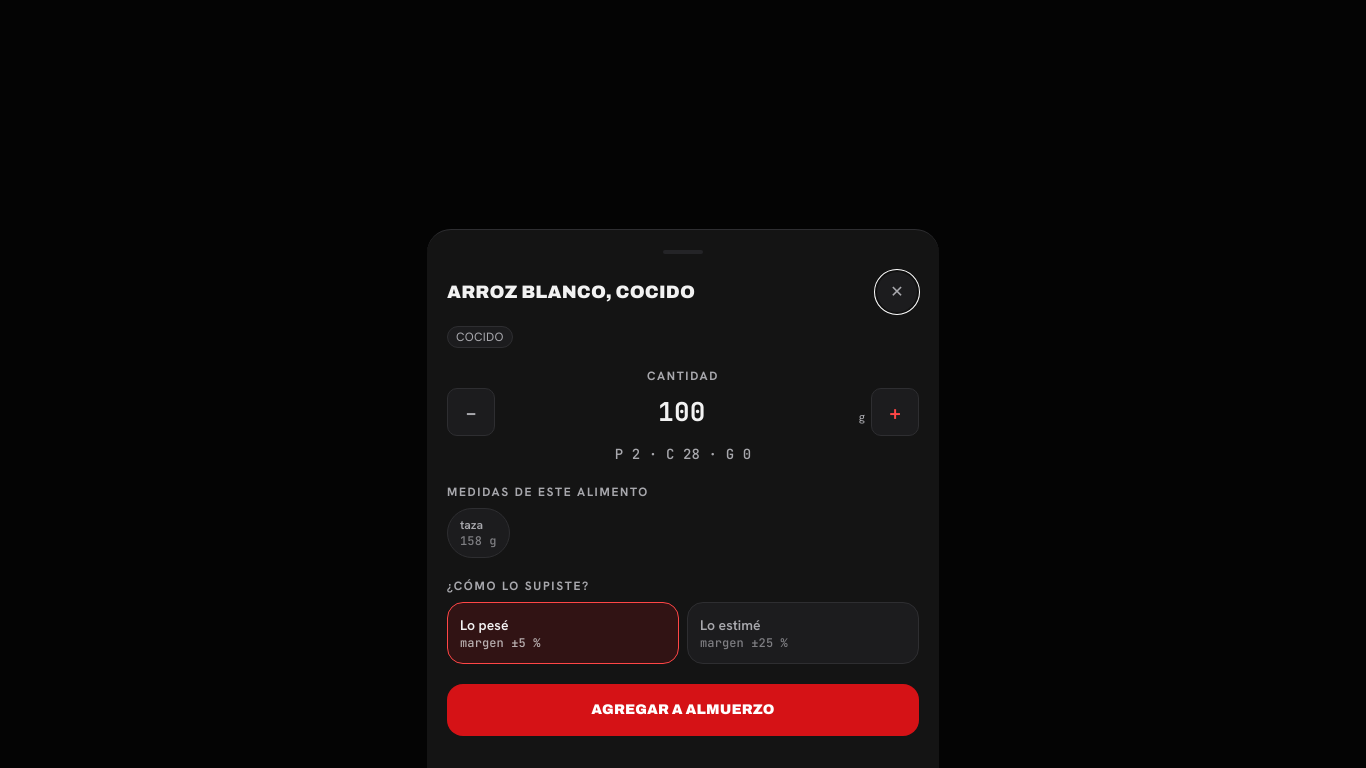
it: SheetCantidad › avisos de tope › con el contador apagado el aviso sigue saliendo, sin la cifra de kcal
Replace the text in the field named "Cantidad en g" with "2000" at (682, 412), box x1=501 y1=390 x2=863 y2=434
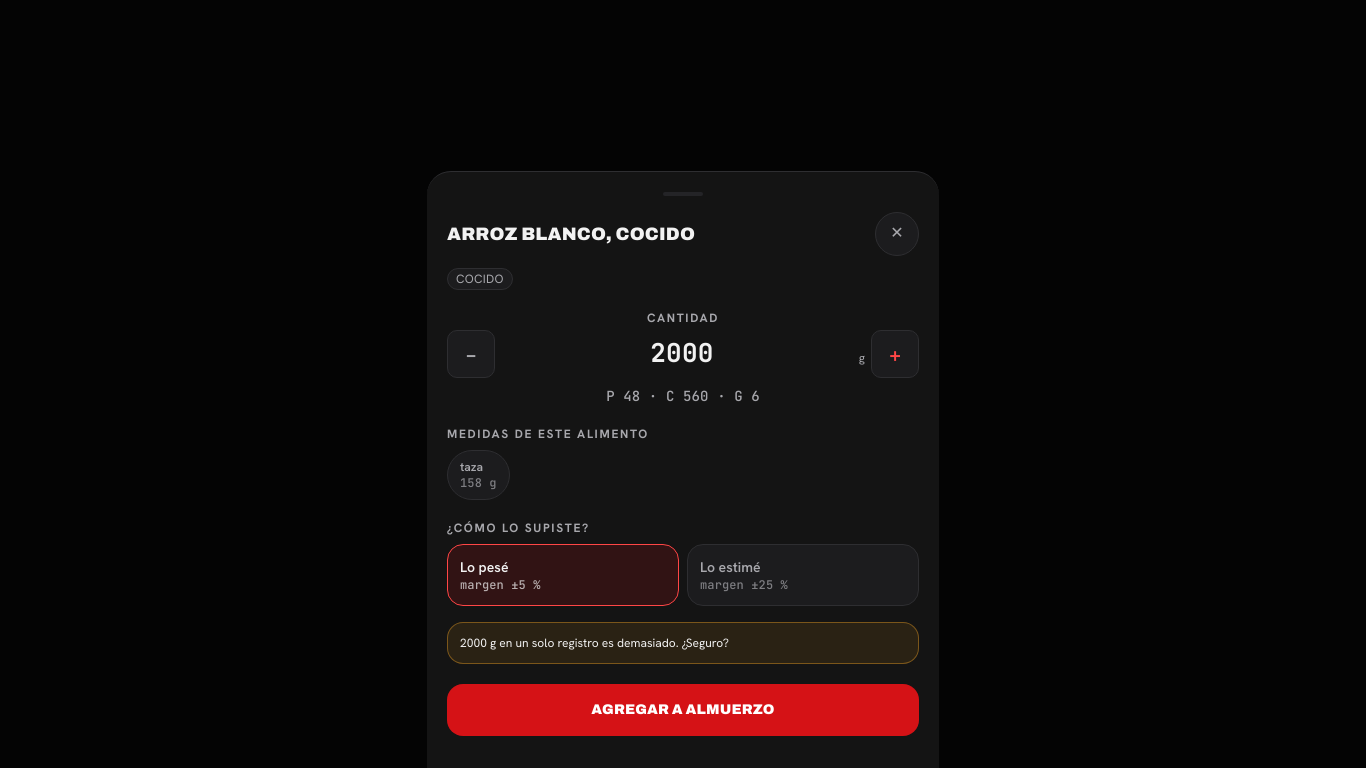
Expected: the message does not show "kcal", x1=447 y1=622 x2=919 y2=664
Expected: the message shows "2000 g", x1=460 y1=634 x2=729 y2=650
Expected: the message shows "¿Seguro?", x1=460 y1=634 x2=729 y2=650
